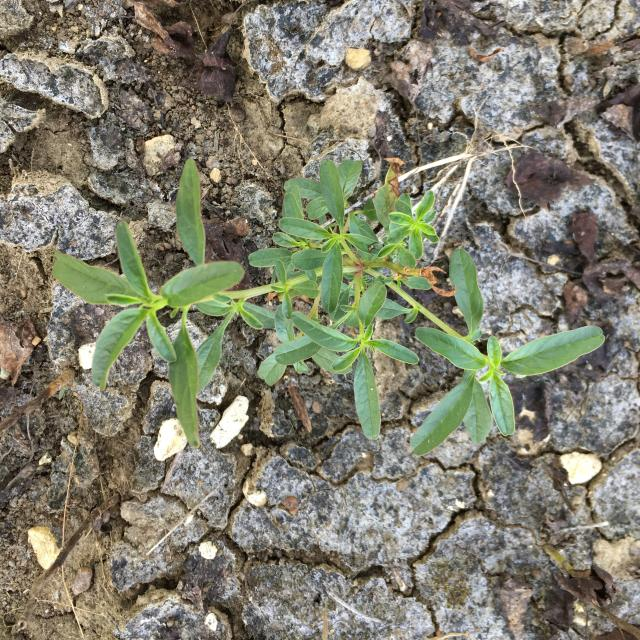Waterhemp: (52, 158, 606, 458)
